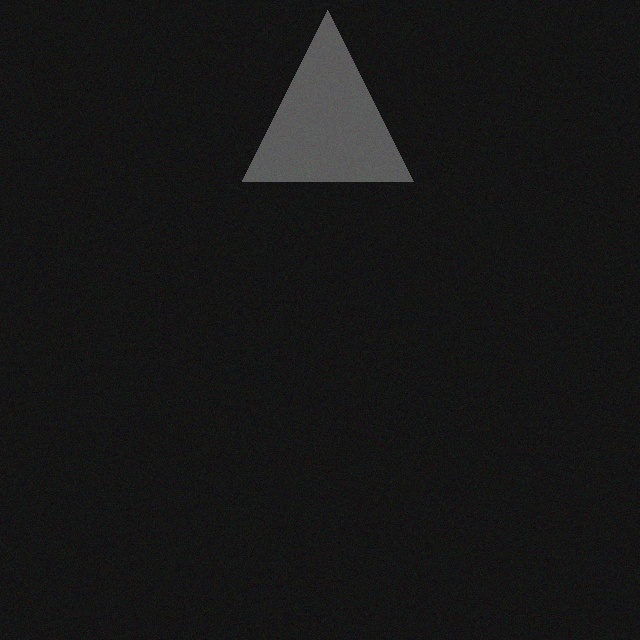triangle: (247, 23, 418, 194)
